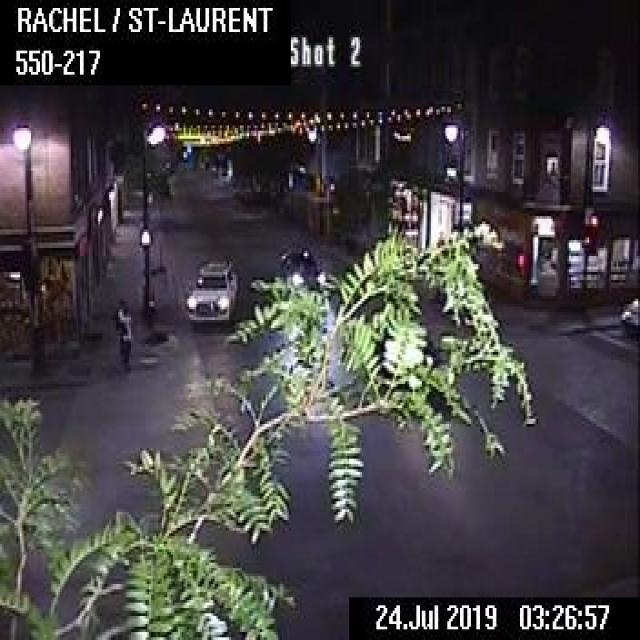pedestrian: (113, 294, 131, 374)
vehicle: (363, 313, 450, 405), (185, 258, 236, 323), (278, 246, 322, 292), (618, 291, 638, 331)
